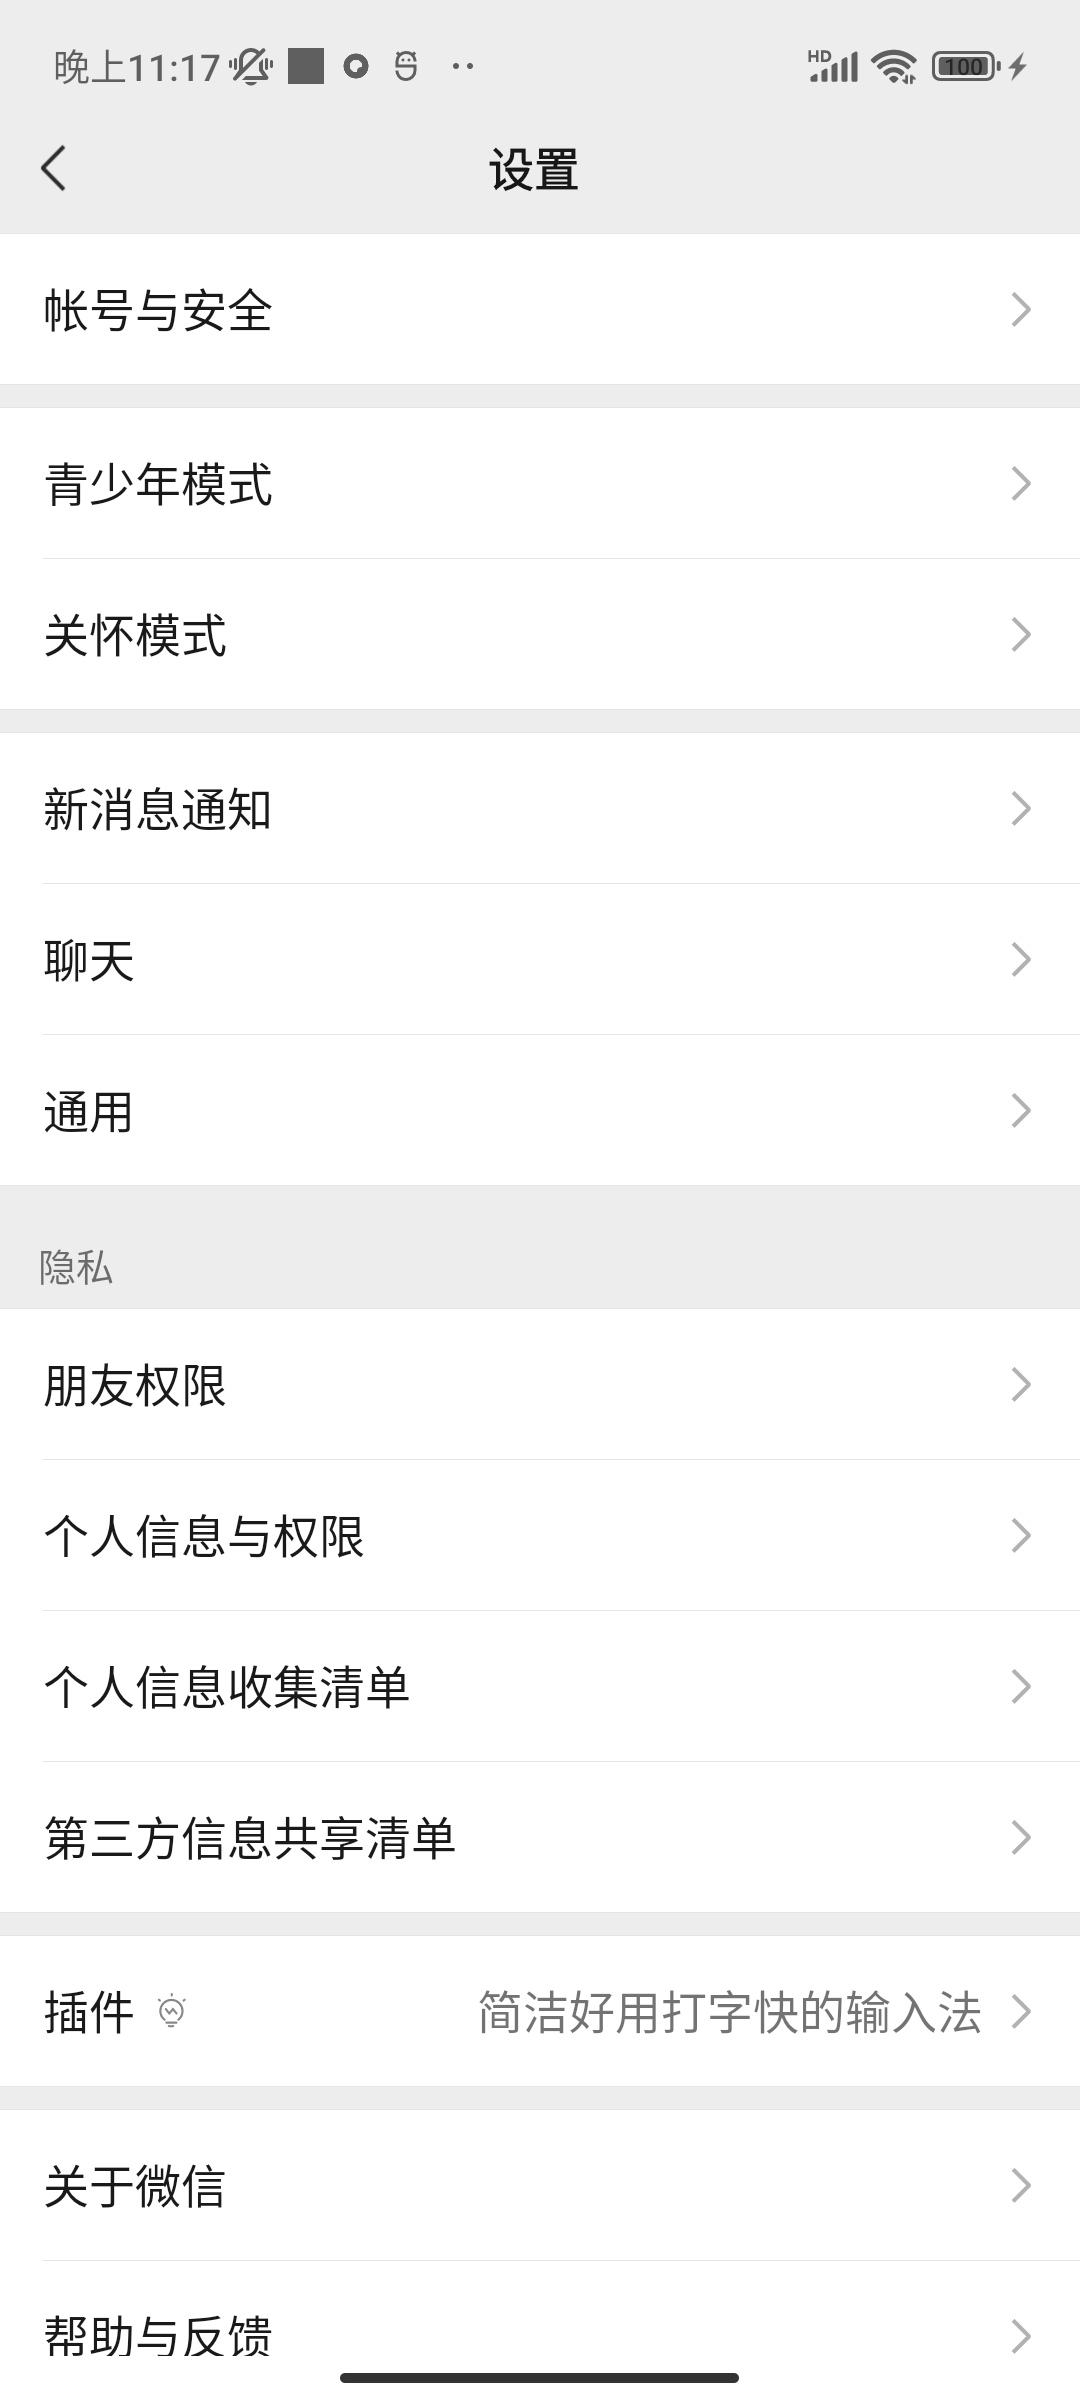ui_group: (8, 419, 1062, 559), (8, 1948, 1060, 2085), (23, 1474, 1046, 1606)
